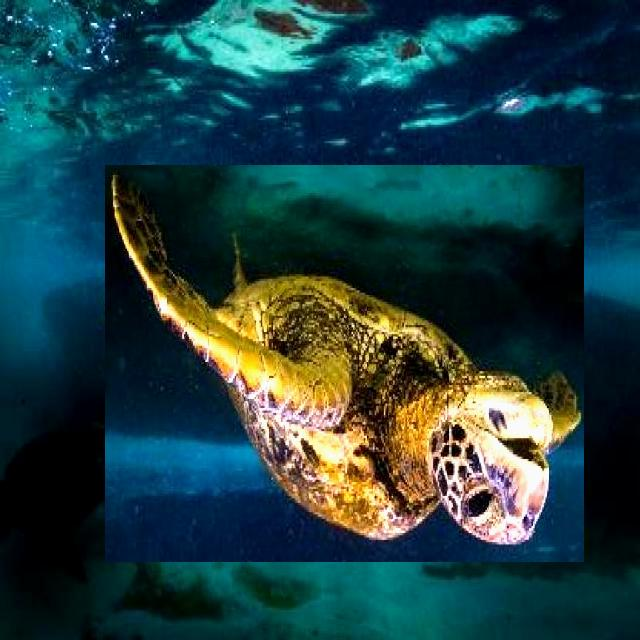Sea turtle: (105, 165, 586, 562)
